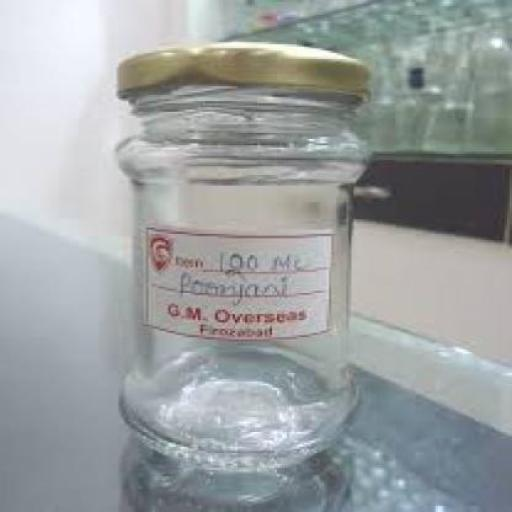glass: (0, 203, 510, 510), (111, 84, 359, 466), (213, 0, 509, 36), (460, 23, 510, 154), (358, 32, 400, 148), (384, 54, 432, 150), (413, 88, 474, 148), (416, 29, 470, 93), (227, 0, 273, 28), (304, 0, 351, 23), (270, 2, 304, 24)
metal: (112, 42, 368, 93)
paper: (141, 224, 332, 342)
